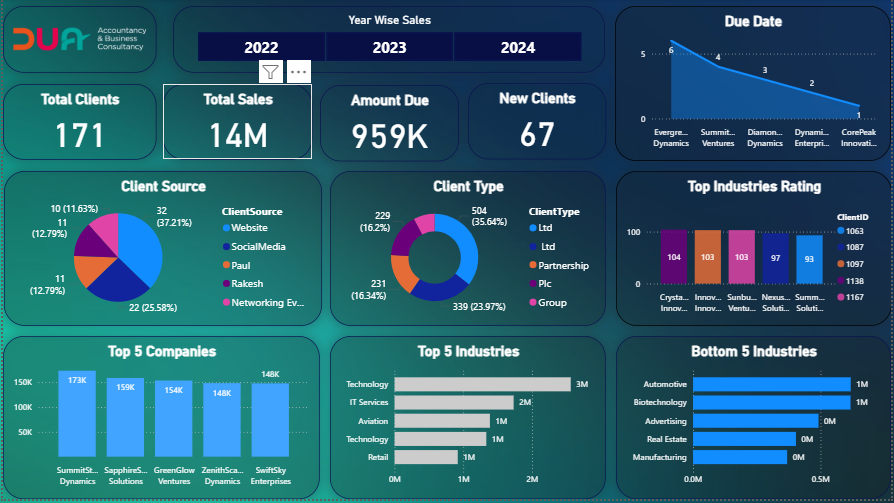

Layout of this report page (visuals, bound fields, positions):
{"tool":"powerbi","page":{"name":"Client Invoice Dashboard","canvas":[1280,720],"ordinal":0},"visuals":[{"type":"slicer","title":"Year Wise Sales","fields":{"Values":["Invoices.Year"]},"box":[244.1,10.3,622.1,95.6],"z":0},{"type":"card","title":"Total Clients","fields":{"Values":["Count(Clients.ClientID)"]},"box":[0,122.1,220.6,108.8],"z":1000},{"type":"card","title":"Total Sales","fields":{"Values":["Sum(Payments. Amount)"]},"box":[230.9,122.1,214.7,108.8],"z":2000},{"type":"card","title":"Amount Due","fields":{"Values":["Sum(Invoices.AmountDue)"]},"box":[455.9,123.5,200,110.3],"z":3000},{"type":"donutChart","title":"Client Type","fields":{"Category":["Clients.ClientType"],"Y":["CountNonNull(Feedback. ClientID)"]},"box":[470.9,247.7,397.4,223.2],"z":4000},{"type":"clusteredBarChart","title":"Top 5 Industries","fields":{"Category":["Clients.Industry"],"Y":["Sum(Payments. Amount)"]},"box":[470.9,485.3,397.4,234.7],"z":5000},{"type":"clusteredBarChart","title":"Bottom 5 Industries","fields":{"Y":["Sum(Payments. Amount)"],"Category":["Clients.Industry"]},"box":[882.7,485.3,396,234.7],"z":6000},{"type":"card","title":"New Clients","fields":{"Values":["Count(Clients.ClientSignUp)"]},"box":[669.1,120.6,198.5,110.3],"z":7000},{"type":"columnChart","title":"Top Industries Rating","fields":{"Y":["Sum(Feedback.NPS)"],"Category":["Clients.CompanyName"],"Series":["Clients.ClientID"]},"box":[882.7,247.7,397.4,223.2],"z":8000},{"type":"areaChart","title":"Due Date","fields":{"Category":["Clients.CompanyName"],"Y":["CountNonNull(Invoices.DueDate)"]},"box":[881.3,10.1,397.4,223.2],"z":9000},{"type":"pieChart","title":"Client Source","fields":{"Y":["CountNonNull(Clients.ClientID)"],"Category":["Clients.ClientSource"]},"box":[1.4,247.7,457.9,223.2],"z":10000},{"type":"columnChart","title":"Top 5 Companies","fields":{"Y":["Sum(Payments. Amount)"],"Category":["Clients.CompanyName"]},"box":[0,485.3,456.5,234.7],"z":11000},{"type":"image","box":[0,10.3,220.6,95.6],"z":12000}]}

Visuals, with their boxes in screenshot pixels (x1, y1, x2, y2), scaled from the page's 1280x720 canvas onto the 894x503 screenshot:
"Year Wise Sales" slicer: BBox(170, 7, 605, 74)
"Total Clients" card: BBox(0, 85, 154, 161)
"Total Sales" card: BBox(161, 85, 311, 161)
"Amount Due" card: BBox(318, 86, 458, 163)
"Client Type" donutChart: BBox(329, 173, 606, 329)
"Top 5 Industries" clusteredBarChart: BBox(329, 339, 606, 502)
"Bottom 5 Industries" clusteredBarChart: BBox(617, 339, 893, 502)
"New Clients" card: BBox(467, 84, 606, 161)
"Top Industries Rating" columnChart: BBox(617, 173, 893, 329)
"Due Date" areaChart: BBox(616, 7, 893, 163)
"Client Source" pieChart: BBox(1, 173, 321, 329)
"Top 5 Companies" columnChart: BBox(0, 339, 319, 502)
image: BBox(0, 7, 154, 74)
